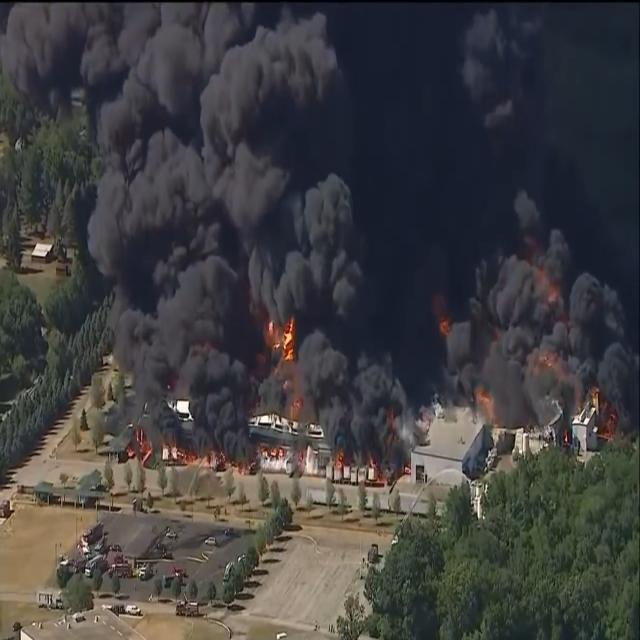Fire: (164, 444, 251, 474), (523, 252, 564, 306), (266, 310, 296, 376), (587, 384, 618, 440), (542, 347, 576, 386), (470, 379, 500, 423), (128, 429, 154, 460), (262, 442, 290, 458), (437, 310, 452, 338), (334, 451, 344, 471)
Smoke: (0, 0, 640, 447)
